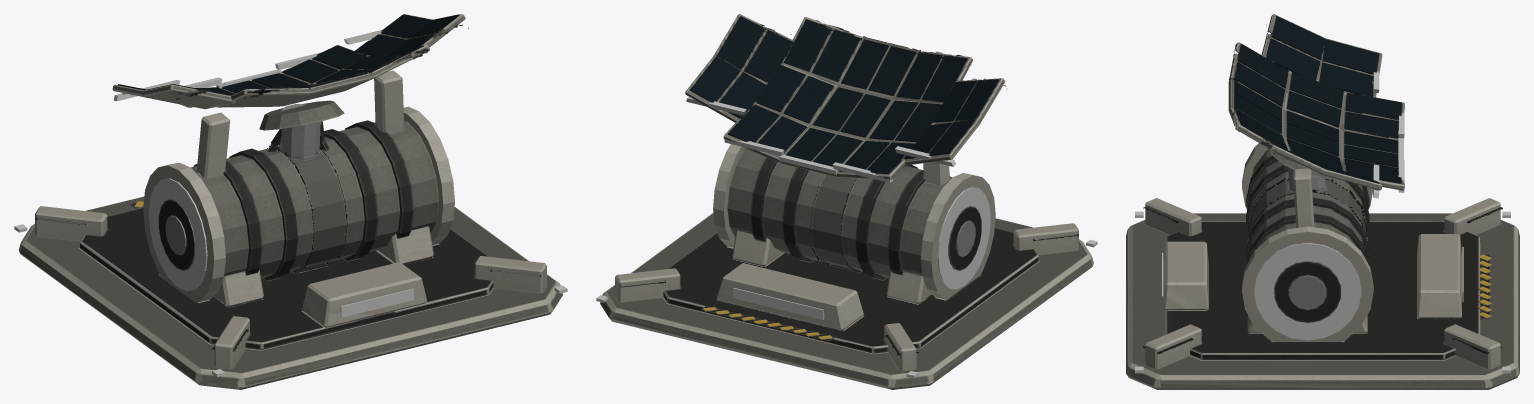
File: ord_advsolar.fbx
The picture shows the model from 3 angles, left to right: view 1: azimuth 30°, elevation 25°; view 2: azimuth 150°, elevation 25°; view 3: azimuth 270°, elevation 25°; orthographic projection. The views are drawn at different scales.
Visible parts, largest first — view 1: base_bar, base_glow_power_bar, base_glow_running_bar; view 2: base_bar, base_glow_power_bar, base_glow_running_bar; view 3: base_bar, base_glow_power_bar, base_glow_running_bar.
Boxes of the visible parts, x1,y1,x2,y2 form: base_bar: (19, 14, 562, 389); base_glow_power_bar: (148, 178, 413, 317); base_glow_running_bar: (14, 30, 567, 377); base_bar: (600, 14, 1093, 389); base_glow_power_bar: (733, 187, 990, 319); base_glow_running_bar: (596, 97, 1097, 378); base_bar: (1126, 14, 1519, 389); base_glow_power_bar: (1162, 243, 1463, 340); base_glow_running_bar: (1135, 72, 1510, 373).
Size of the model in its own units: 1555 by 1194 by 1555.
2 materials, 2 textured.
